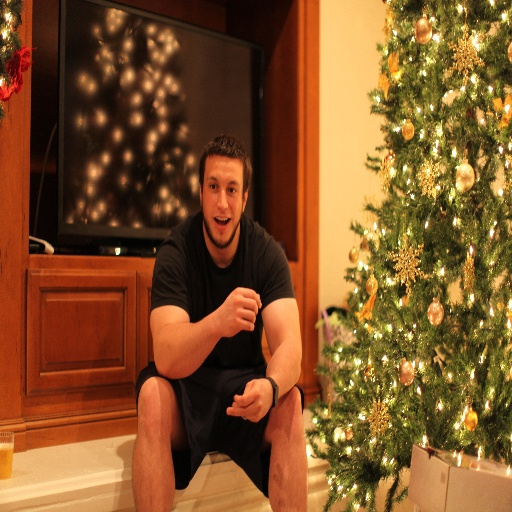hand: (214, 291, 261, 349), (225, 378, 272, 425)
